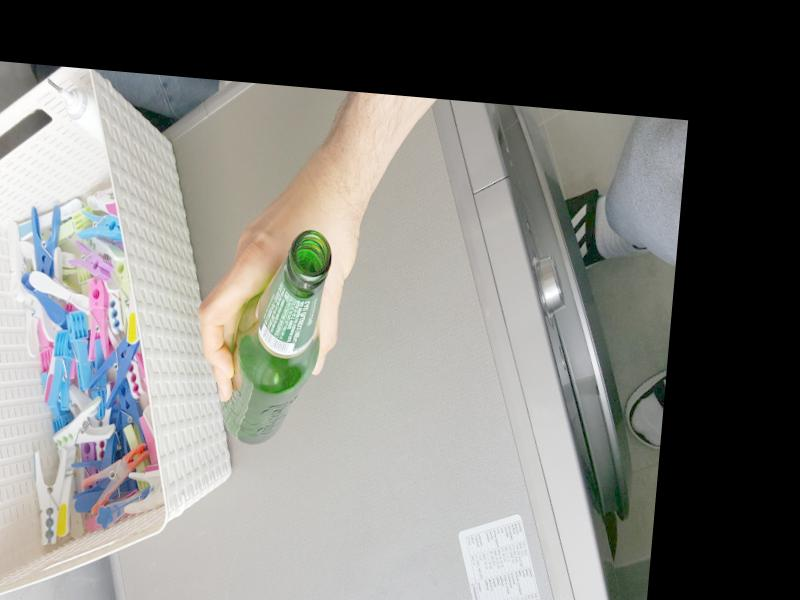Beer: (214, 224, 334, 448)
